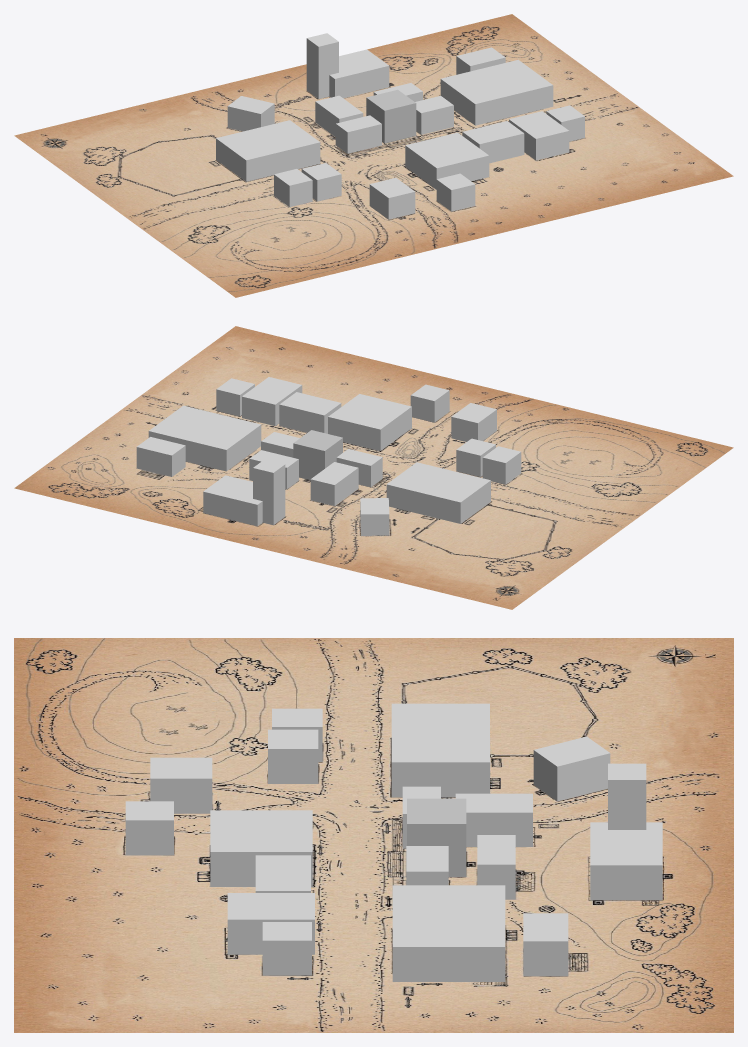
File: town.dae
3 views of the same model, one above another, from view 1: azimuth 30°, elevation 25°; view 2: azimuth 150°, elevation 25°; view 3: azimuth 270°, elevation 25° (orthographic). The views are drawn at different scales.
Visible parts, largest first — view 1: Plane, Cube.008, Cube.011, Cube.004, Cube.014, Cube, Cube.006, Cube.015, Cube.005, Cube.012, Cube.002, Cube.013 (+7 smaller); view 2: Plane, Cube.008, Cube.011, Cube.004, Cube.014, Cube.005, Cube.006, Cube.015, Cube, Cube.001, Cube.017, Cube.012 (+8 smaller); view 3: Plane, Cube.008, Cube.011, Cube.004, Cube.014, Cube.013, Cube.006, Cube, Cube.012, Cube.001, Cube.017, Cube.009 (+8 smaller).
Boxes of the visible parts, x1,y1,x2,y2 form: Plane: (14,14,733,297); Cube.008: (440,59,553,125); Cube.011: (216,120,320,181); Cube.004: (405,132,489,189); Cube.014: (329,49,389,98); Cube: (366,89,416,143); Cube.006: (509,111,569,160); Cube.015: (306,33,338,99); Cube.005: (462,121,524,163); Cube.012: (369,178,415,219); Cube.002: (335,115,381,153); Cube.013: (227,96,274,131); Plane: (14,326,733,609); Cube.008: (148,405,261,471); Cube.011: (386,462,490,523); Cube.004: (328,394,411,450); Cube.014: (203,475,262,526); Cube.005: (279,392,341,433); Cube.006: (242,377,302,425); Cube.015: (253,459,285,525); Cube: (293,430,342,480); Cube.001: (310,462,358,505); Cube.017: (136,437,185,476); Cube.012: (451,403,496,441); Plane: (14,638,733,1032); Cube.008: (392,885,505,981); Cube.011: (391,703,489,797); Cube.004: (210,810,312,886); Cube.014: (590,822,662,900); Cube.013: (533,736,610,801); Cube.006: (227,893,314,954); Cube: (407,798,466,876); Cube.012: (150,757,212,813); Cube.001: (455,793,532,846); Cube.017: (523,913,568,976); Cube.009: (268,729,318,783).
Bounding box in the file's own units: 48.51 × 37.39 × 5.56.
